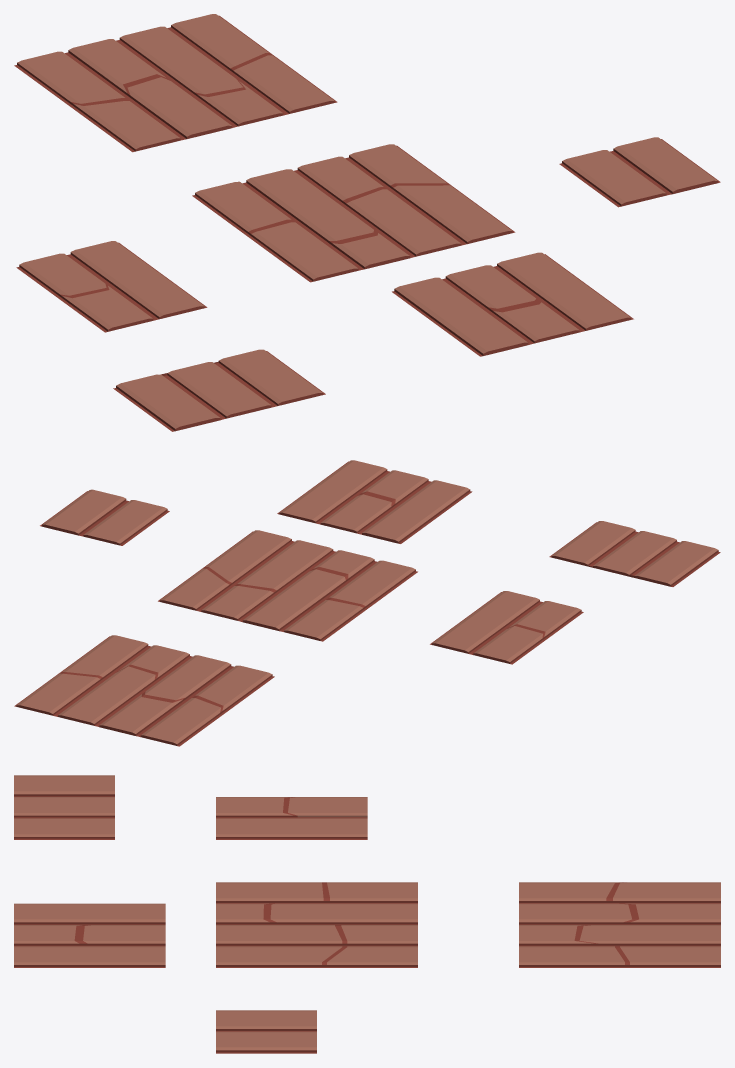
Rendered from AllFloors.fbx.
3 renders of one model, top to bottom at view 1: azimuth 30°, elevation 25°; view 2: azimuth 150°, elevation 25°; view 3: azimuth 270°, elevation 25°, orthographic. The views are drawn at different scales.
Parts seen in each view (by area): view 1: Floor_2m .2, Floor_2m .1, Floor_1.5 m, Floor_1.5 slim .2, Floor_1.5 slim .1, Floor_1m; view 2: Floor_2m .1, Floor_2m .2, Floor_1.5 m, Floor_1.5 slim .2, Floor_1.5 slim .1, Floor_1m; view 3: Floor_2m .1, Floor_2m .2, Floor_1.5 m, Floor_1.5 slim .2, Floor_1.5 slim .1, Floor_1m.
Part boxes in pixels (box(x1,y1,x2,y2)): Floor_2m .2: box(14, 14, 337, 152); Floor_2m .1: box(192, 144, 515, 282); Floor_1.5 m: box(392, 252, 633, 356); Floor_1.5 slim .2: box(113, 349, 325, 431); Floor_1.5 slim .1: box(16, 241, 207, 332); Floor_1m: box(559, 137, 720, 207); Floor_2m .1: box(158, 530, 417, 641); Floor_2m .2: box(14, 635, 274, 746); Floor_1.5 m: box(277, 460, 472, 543); Floor_1.5 slim .2: box(549, 521, 720, 586); Floor_1.5 slim .1: box(430, 591, 583, 664); Floor_1m: box(40, 489, 169, 545); Floor_2m .1: box(216, 882, 417, 967); Floor_2m .2: box(519, 882, 720, 967); Floor_1.5 m: box(14, 903, 165, 967); Floor_1.5 slim .2: box(14, 775, 114, 839); Floor_1.5 slim .1: box(216, 797, 367, 839); Floor_1m: box(216, 1010, 316, 1053).
Bounding box in the file's own units: 650 × 3.3 × 700.
